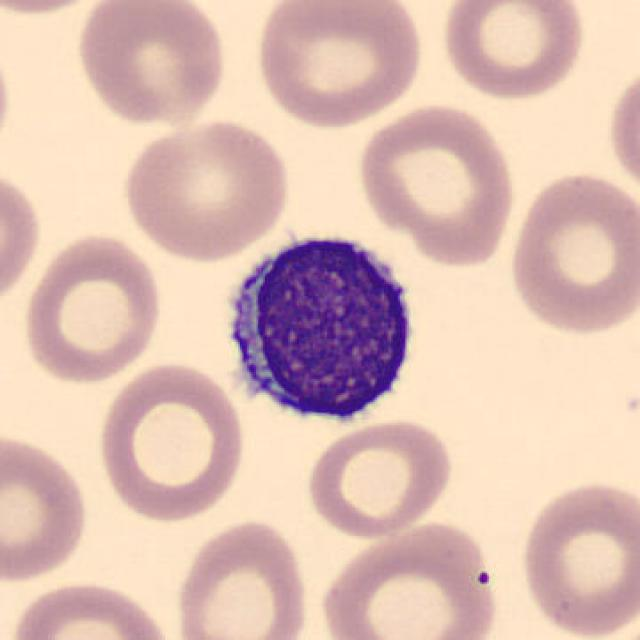Lymphocyte: (210, 218, 428, 436)
RBC: (352, 98, 519, 270), (92, 358, 249, 525), (117, 115, 295, 262), (503, 166, 638, 340), (248, 0, 428, 130), (18, 229, 167, 386), (315, 518, 505, 640), (71, 0, 229, 132), (516, 474, 638, 640), (302, 416, 457, 541), (171, 516, 313, 640), (437, 0, 590, 102), (0, 428, 94, 586), (5, 576, 179, 640), (0, 160, 44, 315), (604, 56, 640, 203), (0, 30, 16, 171), (0, 0, 119, 16)
